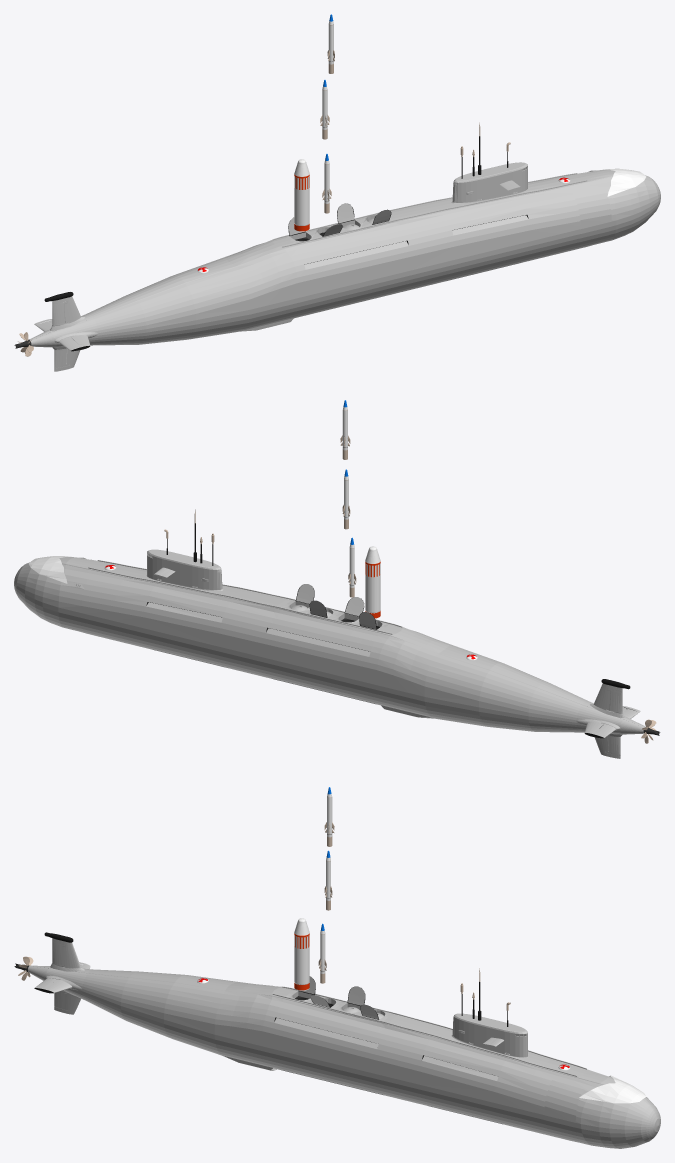
File: IndianNukeSubArihant.obj
The picture shows the model from 3 angles, top to bottom: view 1: azimuth 30°, elevation 25°; view 2: azimuth 150°, elevation 25°; view 3: azimuth 330°, elevation 25°; orthographic projection.
Parts seen in each view (by area): view 1: Sub_Plane; view 2: Sub_Plane; view 3: Sub_Plane.
Boxes of the visible parts, bbox=[...] form: Sub_Plane: bbox=[14, 14, 660, 371]; Sub_Plane: bbox=[14, 400, 660, 758]; Sub_Plane: bbox=[14, 787, 660, 1148].
Size of the model in its own units: 20.82 by 9.01 by 2.06.
